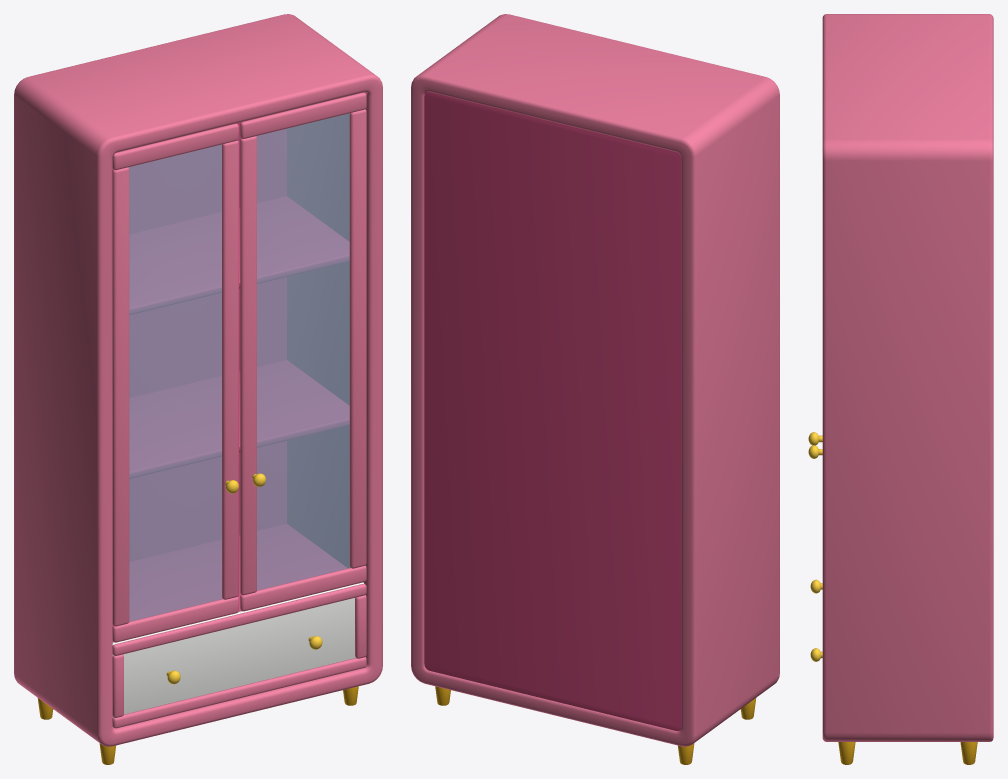
The model's file is armario_vitrine_rosa.glb.
The picture shows the model from 3 angles, left to right: view 1: azimuth 30°, elevation 25°; view 2: azimuth 150°, elevation 25°; view 3: azimuth 270°, elevation 25°; orthographic projection.
Parts seen in each view (by area): view 1: armario_vitrine_rosa, porta_2, porta_1, gaveta_1; view 2: armario_vitrine_rosa; view 3: armario_vitrine_rosa.
Boxes of the visible parts, left/top/right/bottom form: armario_vitrine_rosa: left=14, top=14, right=382, bottom=764; porta_2: left=240, top=92, right=366, bottom=611; porta_1: left=112, top=123, right=238, bottom=642; gaveta_1: left=112, top=582, right=366, bottom=728; armario_vitrine_rosa: left=411, top=14, right=779, bottom=764; armario_vitrine_rosa: left=822, top=14, right=993, bottom=764.
Bounding box in the file's own units: 0.8 × 1.7 × 0.4546.
2 materials, 1 textured.
